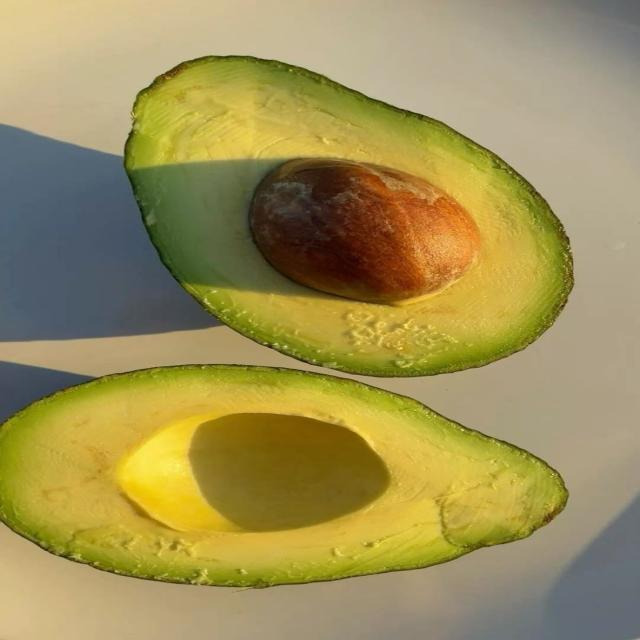avocado: (0, 366, 566, 586), (249, 158, 480, 287)
